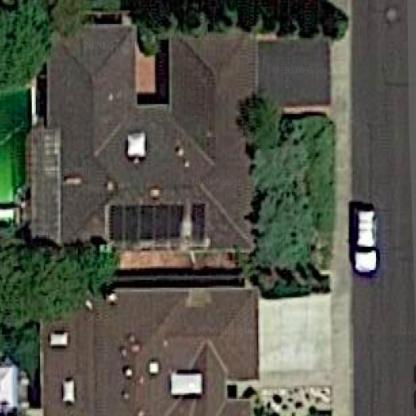car: (349, 199, 381, 280)
solar_panel: (101, 195, 210, 246)
